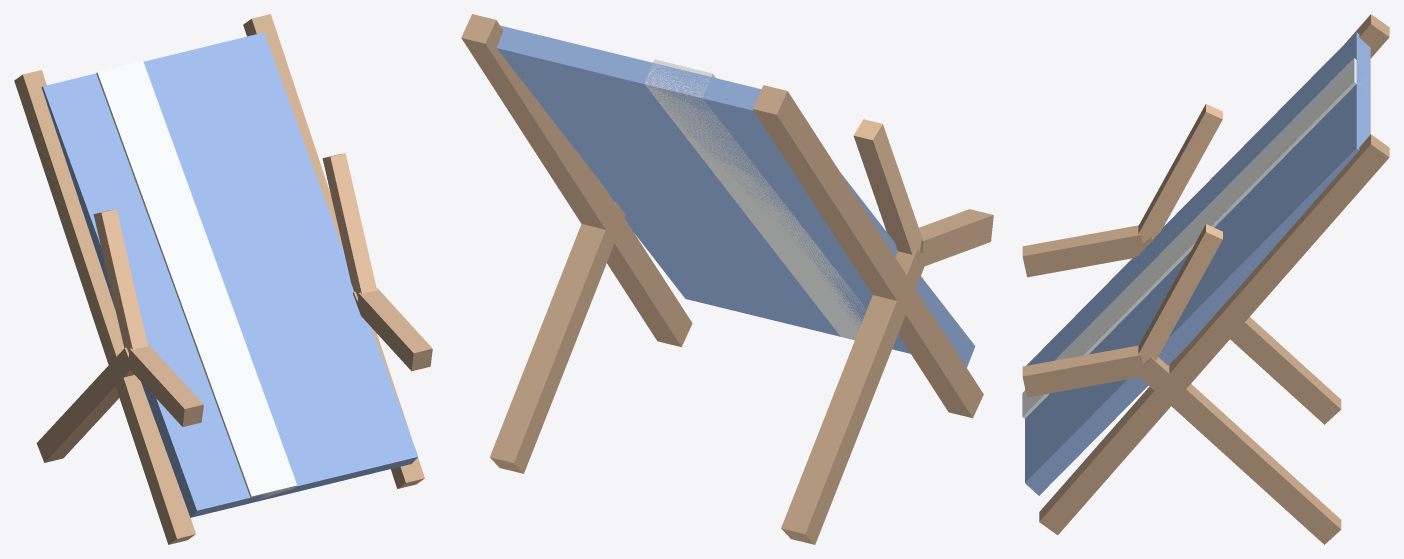
Rendered from deckChair.glb.
3 views of the same model, side by side, from view 1: azimuth 30°, elevation 25°; view 2: azimuth 150°, elevation 25°; view 3: azimuth 270°, elevation 25° (orthographic). The views are drawn at different scales.
Visible parts, largest first — view 1: deckChair; view 2: deckChair; view 3: deckChair.
Boxes of the visible parts, left/top/right/bottom form: deckChair: left=14, top=14, right=432, bottom=544; deckChair: left=461, top=14, right=993, bottom=544; deckChair: left=1022, top=14, right=1389, bottom=544.
Size of the model in its own units: 0.325 by 0.4666 by 0.3873.
